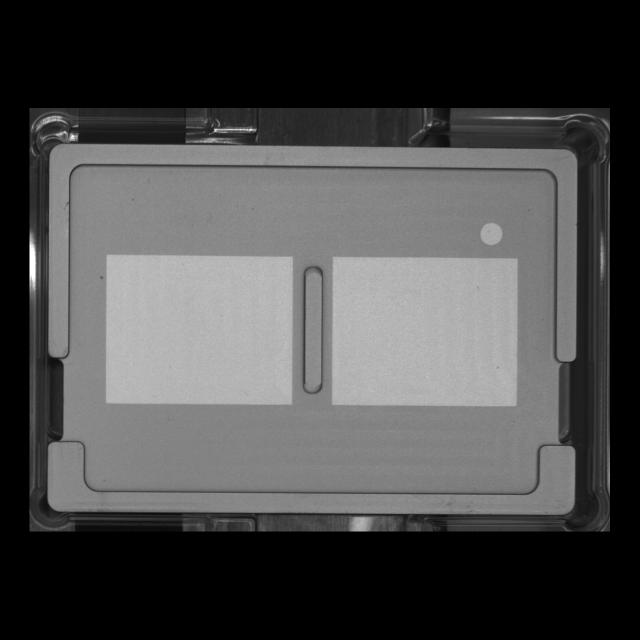door: (41, 428, 589, 524)
point: (477, 220, 505, 248)
